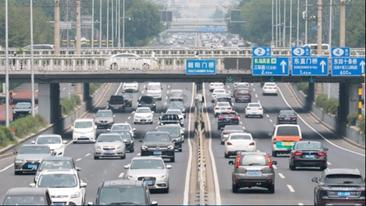car: (302, 156, 366, 206), (27, 161, 92, 203), (226, 150, 281, 197), (10, 136, 60, 178), (283, 136, 338, 172), (121, 154, 171, 190), (268, 117, 302, 153), (90, 131, 127, 164), (137, 129, 175, 160), (221, 130, 259, 161), (35, 128, 69, 160), (68, 116, 98, 147)
